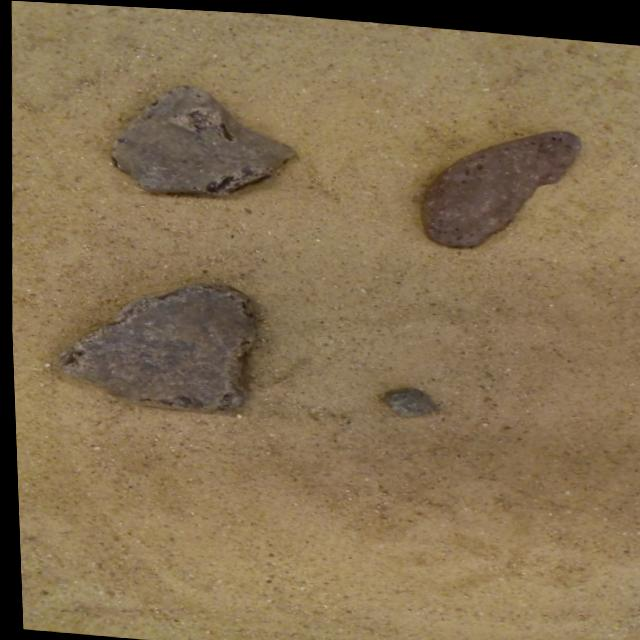rock: (57, 281, 252, 409), (111, 83, 293, 191), (420, 124, 579, 241), (381, 382, 434, 412)
